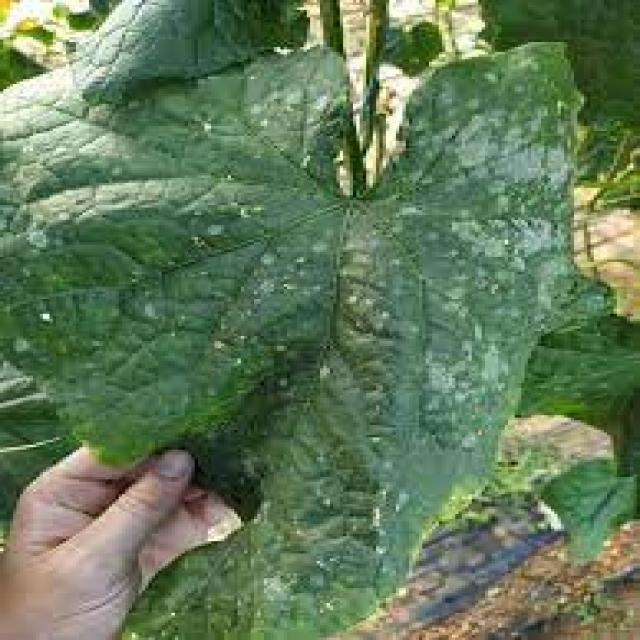powdery-mildew: (414, 98, 566, 406)
